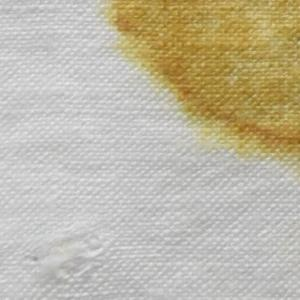Damage: (22, 225, 110, 288)
Oil Stain: (100, 1, 300, 177)
